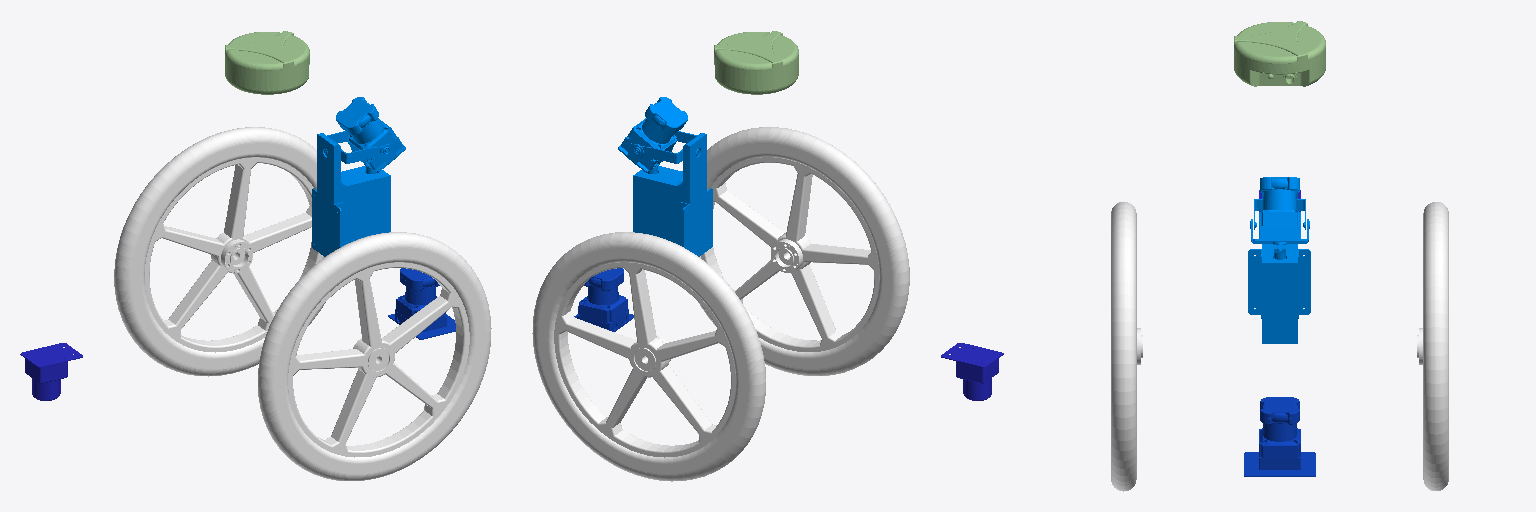
URDF robot description (kit_c4):
<?xml version="1.0"?>
<robot name="kit_c4">

  <!-- base_foot_print -->
  <link name="base_footprint"/>

  <!-- base_link -->
  <link name="base_link">
	<visual>
	  <geometry>
		<mesh filename="package://fourth_robot_description/meshes/DAE/body.dae" />
	  </geometry>
	</visual>
  </link>

  <joint name="base_footprint_to_base_link" type="fixed">
	<parent link="base_footprint"/>
	<child link="base_link"/>
	<origin rpy="0 0 0" xyz="0 0 0.20316"/>
  </joint>

  <!-- wheels -->
  <!-- right_wheel -->
  <link name="right_wheel">
	<visual>
	  <geometry>
		<mesh filename="package://fourth_robot_description/meshes/DAE/wheel.dae"/>
	  </geometry>
	</visual>
  </link>

  <joint name="base_link_to_right_wheel" type="continuous">
	<parent link="base_link"/>
	<child link="right_wheel"/>
	<origin rpy="0 0 0" xyz="0 -0.214375 0"/>
  </joint>

  <!-- left_wheel -->
  <link name="left_wheel">
	<visual>
	  <geometry>
		<mesh filename="package://fourth_robot_description/meshes/DAE/wheel.dae"/>
	  </geometry>
	</visual>
  </link>

  <joint name="base_link_to_left_wheel" type="continuous">
	<parent link="base_link"/>
	<child link="left_wheel"/>
	<origin rpy="0 0 3.141592" xyz="0 0.214375 0"/>
  </joint>

  <!-- sensors -->
  <!-- base_sensor -->
  <link name="base_sensor"/>

  <joint name="base_link_to_base_sensor" type="fixed">
	<parent link="base_link"/>
	<child link="base_sensor"/>
	<origin rpy="0 0 0" xyz="0 0 0"/>
  </joint>

  <!-- base_scan -->
  <link name="base_scan"/>

  <joint name="base_sensor_to_base_scan" type="fixed">
	<parent link="base_sensor"/>
	<child link="base_scan"/>
	<origin rpy="0 0 0" xyz="0 0 0"/>
  </joint>
  
  <!-- gps -->
  <link name="gps">
	<visual>
	  <geometry>
		<mesh filename="package://fourth_robot_description/meshes/DAE/gps.dae"/>
	  </geometry>
	</visual>
  </link>

  <joint name="base_sensor_to_gps" type="fixed">
	<parent link="base_sensor"/>
	<child link="gps"/>
	<origin rpy="0 0 -3.141592" xyz="-0.06229 0 0.420552"/>
  </joint>

  <!-- front_scan -->
  <link name="front_scan">
	<visual>
	  <geometry>
		<mesh filename="package://fourth_robot_description/meshes/DAE/front_lrf.dae"/>
	  </geometry>
	</visual>
  </link>

  <joint name="base_scan_to_front_scan" type="fixed">
	<parent link="base_scan"/>
	<child link="front_scan"/>
	<origin rpy="0 0 0 " xyz="0.208 0 -0.0282"/>
  </joint>

  <!-- rear_scan -->
  <link name="rear_scan">
	<visual>
	  <geometry>
		<mesh filename="package://fourth_robot_description/meshes/DAE/rear_lrf.dae"/>
	  </geometry>
	</visual>
  </link>

  <joint name="base_scan_to_rear_scan" type="fixed">
	<parent link="base_scan"/>
	<child link="rear_scan"/>
	<origin rpy="0 -3.141592 0" xyz="-0.452 0 -0.0309"/>
  </joint>

  <!-- gim30_scan -->
  <link name="gim30_scan">
	<visual>
	  <geometry>
		<mesh filename="package://fourth_robot_description/meshes/DAE/gim30.dae"/>
	  </geometry>
	</visual>
  </link>

  <joint name="base_scan_to_gim30_scan" type="fixed">
	<parent link="base_scan"/>
	<child link="gim30_scan"/>
	<origin rpy="0 0 0" xyz="0.12395931 0 0.24578237"/>
  </joint>

  
</robot>

--- Render facts (derived) ---
Views: 3 orthographic renders of the robot side by side, from view 1: azimuth 30°, elevation 25°; view 2: azimuth 150°, elevation 25°; view 3: azimuth 270°, elevation 25°.
Robot: kit_c4 — 10 links, 9 joints (2 continuous, 7 fixed); root link base_footprint; default pose: every joint at zero.
Links seen in each view (by area): view 1: right_wheel, left_wheel, gim30_scan, gps, rear_scan, front_scan; view 2: left_wheel, right_wheel, gim30_scan, gps, front_scan, rear_scan; view 3: gim30_scan, right_wheel, left_wheel, gps, front_scan.
Link boxes in pixels (x1,y1,x2,y2): right_wheel: (258,232,491,480); left_wheel: (114,127,323,376); gim30_scan: (312,97,405,256); gps: (225,31,309,94); rear_scan: (20,343,82,400); front_scan: (388,268,455,339); left_wheel: (532,232,765,481); right_wheel: (698,127,909,375); gim30_scan: (618,97,712,256); gps: (714,31,798,94); front_scan: (574,268,633,331); rear_scan: (941,343,1003,400); gim30_scan: (1248,177,1310,343); right_wheel: (1111,202,1142,491); left_wheel: (1417,202,1448,490); gps: (1234,21,1325,86); front_scan: (1244,397,1315,476).
Size in the robot's own frame: 0.74 by 0.4738 by 0.6512 metres.
Meshes: 6 distinct files referenced, 6 mesh visuals loaded (5 Collada DAE); not drawn: 1 (reference not matched to a file when rendering).